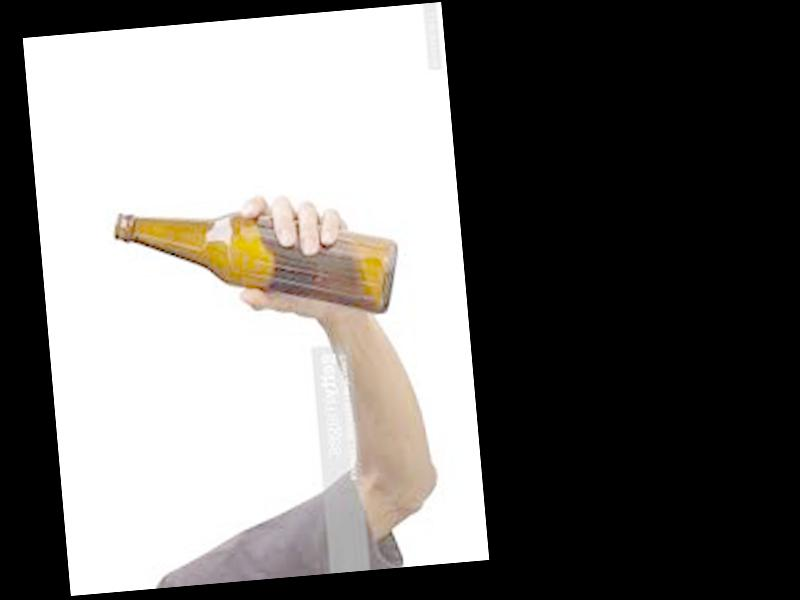Beer: (113, 190, 401, 338)
